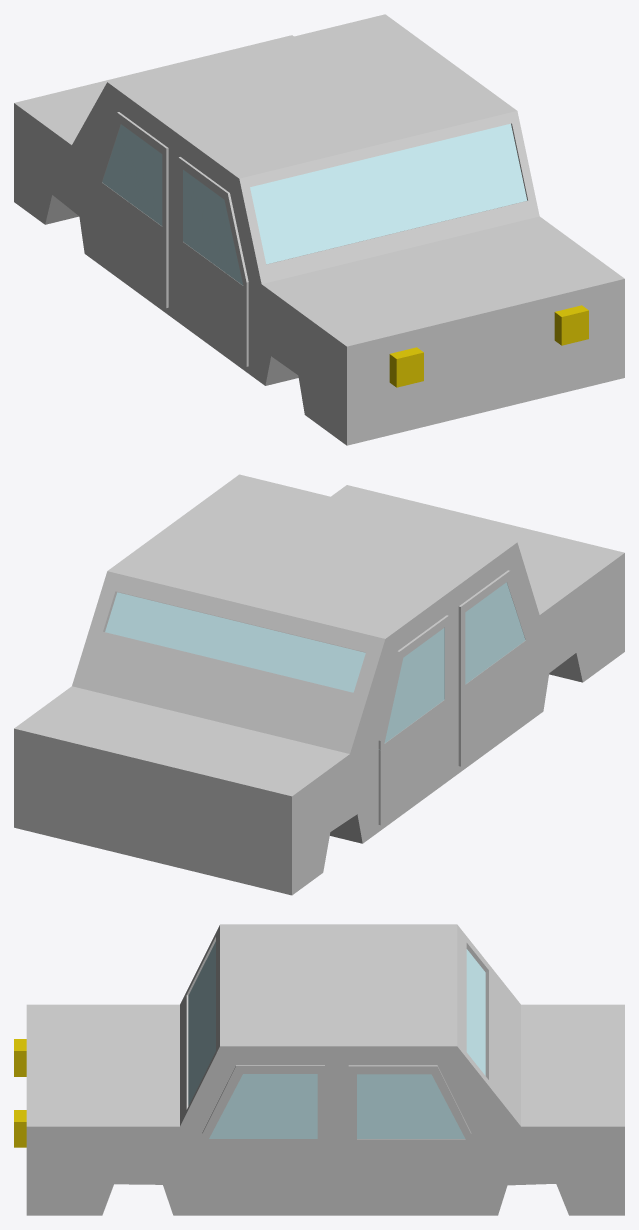
File: Coche Blanco.fbx
3 renders of one model, top to bottom at view 1: azimuth 30°, elevation 25°; view 2: azimuth 150°, elevation 25°; view 3: azimuth 270°, elevation 25°, orthographic. The views are drawn at different scales.
Parts seen in each view (by area): view 1: Cube, Cube.010, Cube.004, Cube.005, Cube.009, Cube.008, Cube.002; view 2: Cube, Cube.011, Cube.005, Cube.004, Cube.009, Cube.008; view 3: Cube, Cube.001, Cube.003, Cube.006, Cube.007, Cube.010, Cube.011, Cube.002.
Part boxes in pixels (<box>): Cube: <box>14,14,624,445</box>; Cube.010: <box>250,123,527,264</box>; Cube.004: <box>178,157,248,366</box>; Cube.005: <box>98,112,168,307</box>; Cube.009: <box>102,124,162,225</box>; Cube.008: <box>183,169,243,285</box>; Cube.002: <box>389,305,588,387</box>; Cube: <box>14,474,624,895</box>; Cube.011: <box>105,592,365,692</box>; Cube.005: <box>378,615,448,825</box>; Cube.004: <box>458,570,528,766</box>; Cube.009: <box>379,628,444,749</box>; Cube.008: <box>465,582,525,684</box>; Cube: <box>26,924,624,1215</box>; Cube.001: <box>348,1065,471,1209</box>; Cube.003: <box>202,1065,324,1209</box>; Cube.006: <box>209,1074,317,1138</box>; Cube.007: <box>357,1074,465,1138</box>; Cube.010: <box>188,941,215,1105</box>; Cube.011: <box>466,949,485,1075</box>; Cube.002: <box>14,1039,26,1147</box>.
Bounding box in the file's own units: 172 × 109 × 358.
